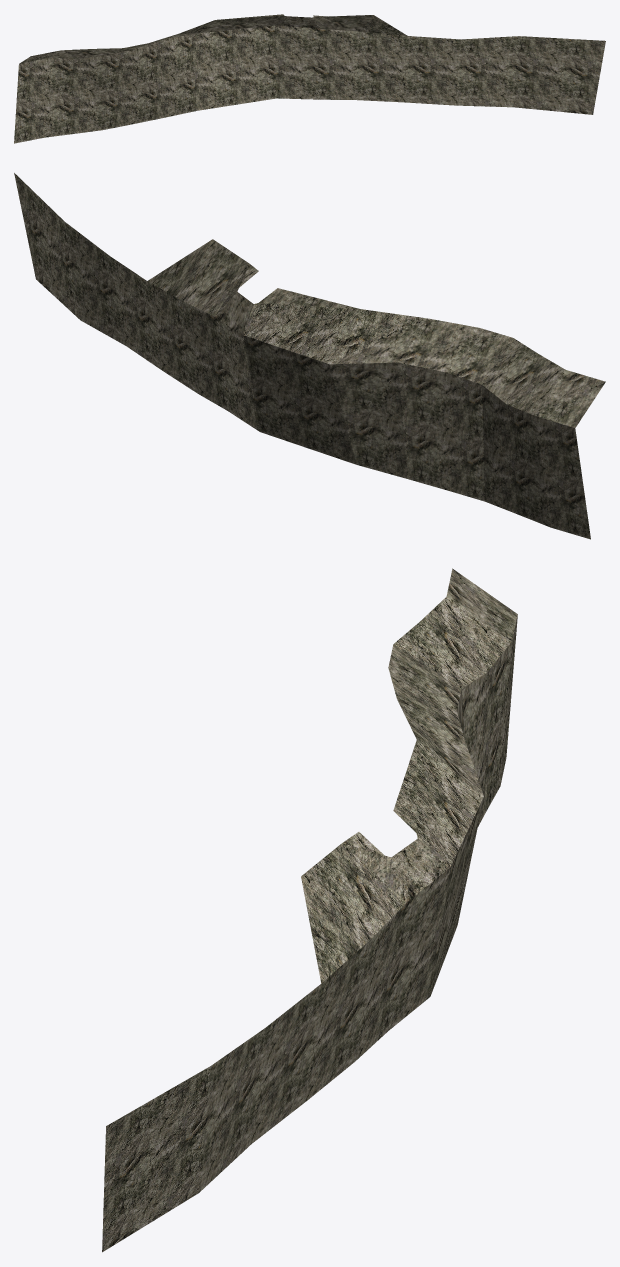
The model's file is cunteground43a.obj.
3 views of the same model, one above another, from view 1: azimuth 30°, elevation 25°; view 2: azimuth 150°, elevation 25°; view 3: azimuth 270°, elevation 25° (orthographic). The views are drawn at different scales.
Parts seen in each view (by area): view 1: cuntEground43A; view 2: cuntEground43A; view 3: cuntEground43A.
Boxes of the visible parts, x1,y1,x2,y2 form: cuntEground43A: (14, 14, 605, 143); cuntEground43A: (14, 173, 605, 539); cuntEground43A: (102, 568, 517, 1252).
Size of the model in its own units: 257 by 55.1 by 94.04.
1 material, 1 textured.
